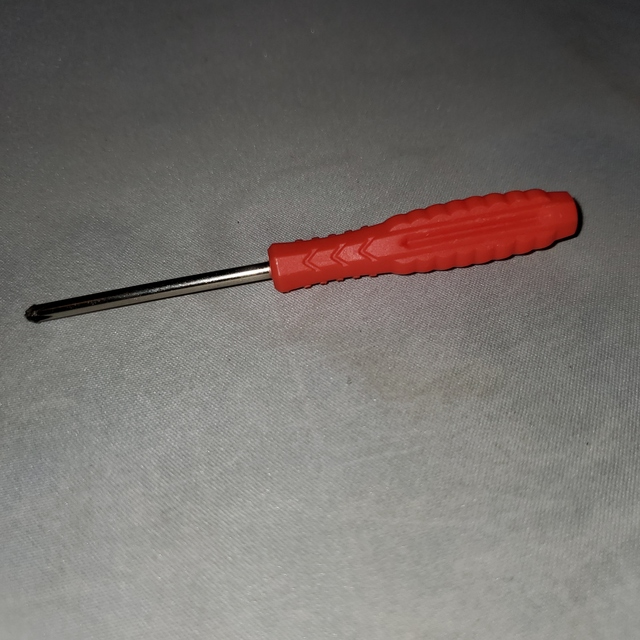screwdriver: (23, 181, 585, 329)
